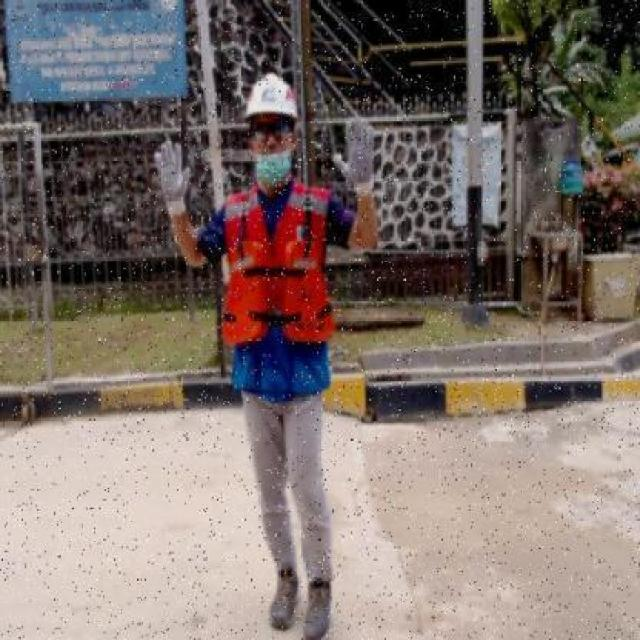Boots: (270, 564, 302, 631), (304, 578, 331, 637)
Gloves: (334, 117, 381, 200), (149, 138, 194, 218)
Helmet: (239, 68, 299, 124)
Mask: (251, 146, 295, 189)
Protective Glasses: (248, 118, 294, 140)
Vest: (220, 240, 334, 349)
